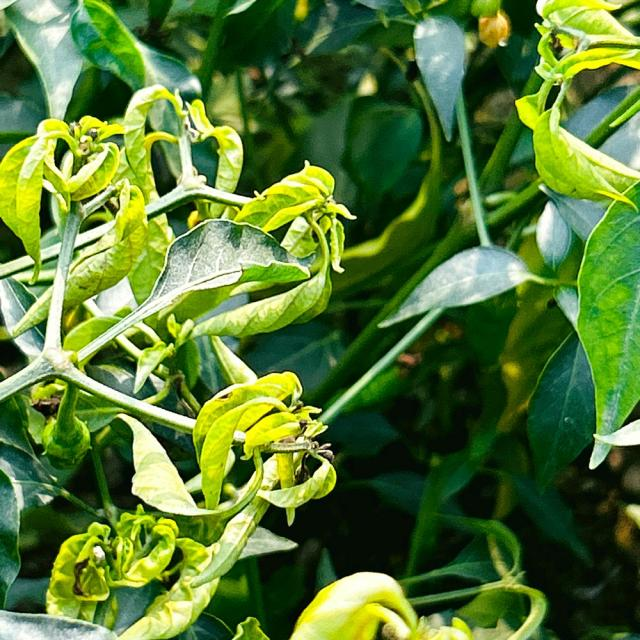Chilli_Leaf_Curl: (1, 1, 638, 638), (1, 80, 352, 636), (61, 216, 315, 369), (184, 159, 355, 339), (191, 369, 336, 524), (573, 191, 639, 469), (376, 242, 534, 328), (530, 105, 639, 212), (411, 14, 466, 142)
